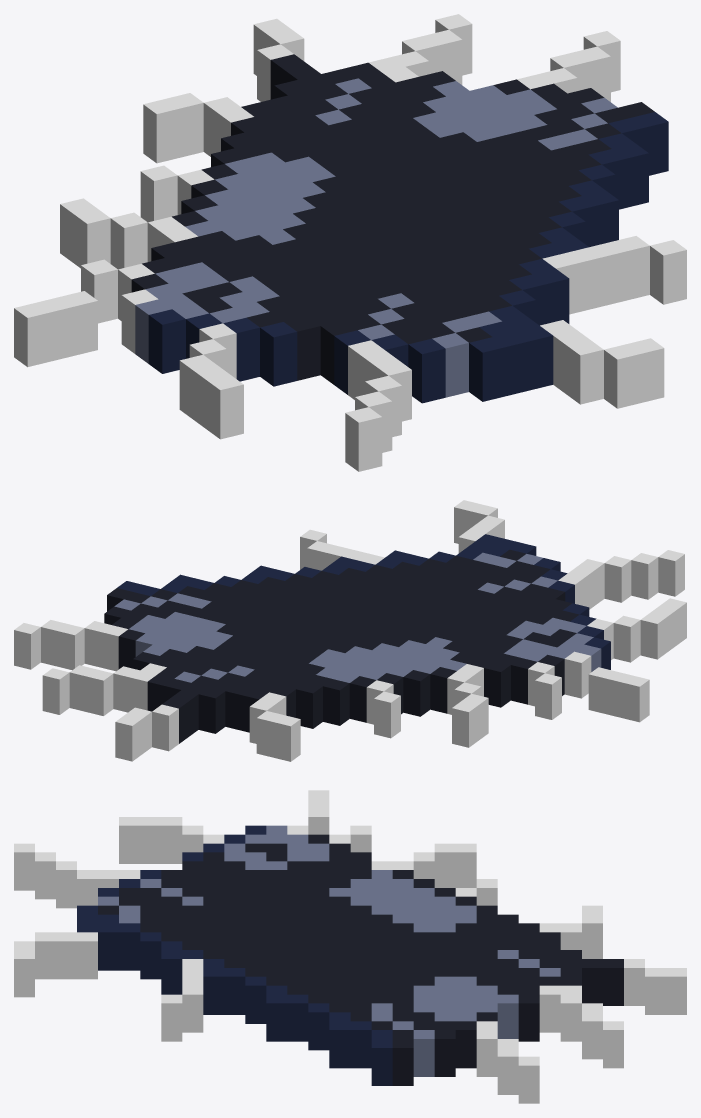
Rendered from Heart3.obj.
The picture shows the model from 3 angles, top to bottom: view 1: azimuth 30°, elevation 25°; view 2: azimuth 150°, elevation 25°; view 3: azimuth 270°, elevation 25°; orthographic projection. The views are drawn at different scales.
Size of the model in its own units: 3.1 by 0.2 by 3.2.
Materials: 1 (1 with a texture image).
